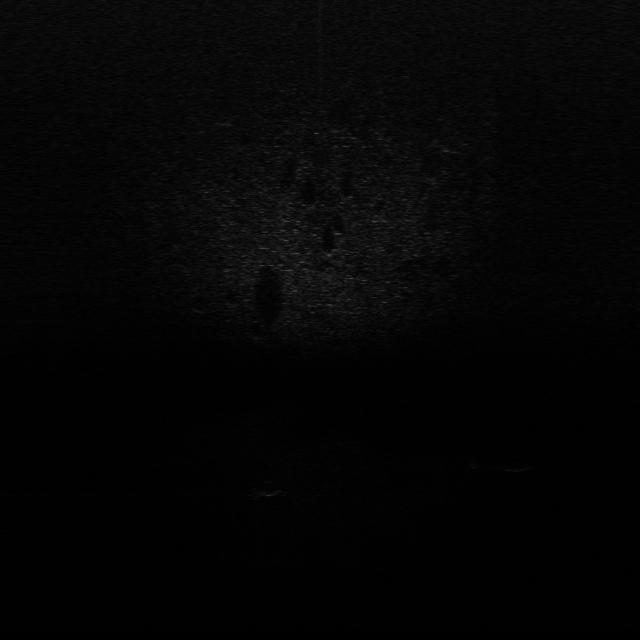ball: (254, 474, 286, 501)
